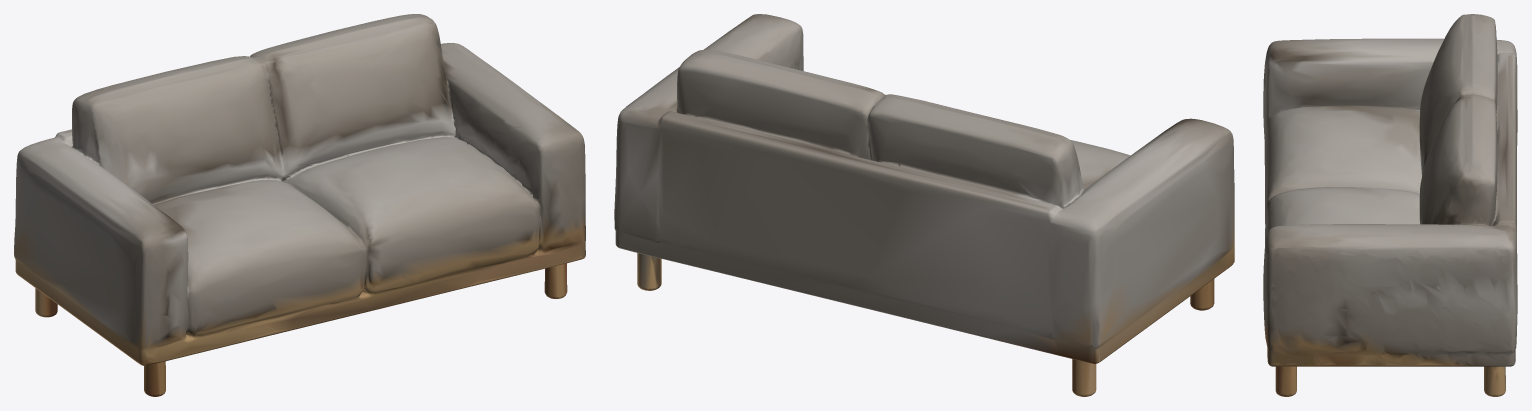
Rendered from sofa-hunyuan-v1.glb.
3 views of the same model, side by side, from view 1: azimuth 30°, elevation 25°; view 2: azimuth 150°, elevation 25°; view 3: azimuth 270°, elevation 25° (orthographic). The views are drawn at different scales.
Visible parts, largest first — view 1: Sofa; view 2: Sofa; view 3: Sofa.
Boxes of the visible parts, left/top/right/bottom form: Sofa: left=14, top=14, right=585, bottom=396; Sofa: left=614, top=14, right=1234, bottom=396; Sofa: left=1263, top=14, right=1517, bottom=396.
Bounding box in the file's own units: 1.6 × 0.7469 × 0.8173.
